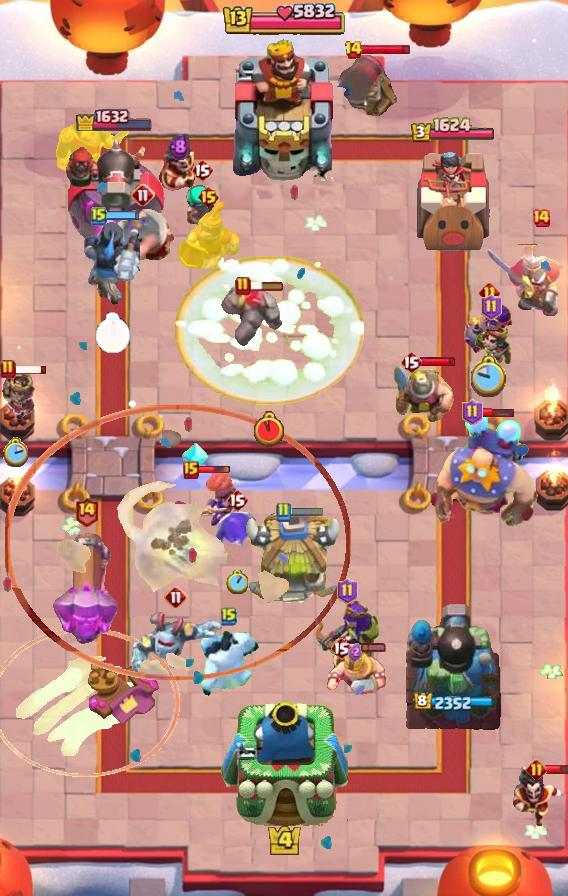bandit: (392, 363, 454, 427)
barbarian-hut: (311, 598, 385, 684)
bomber-evolution: (470, 324, 512, 378), (0, 371, 38, 423)
clock: (221, 0, 347, 40)
earthquake: (177, 202, 239, 278)
electro-spirit: (168, 133, 190, 161), (348, 643, 362, 661)
elixir: (471, 355, 509, 398), (95, 312, 131, 354), (254, 411, 284, 447), (2, 437, 28, 467), (226, 570, 248, 594)
elixir-golem-small: (128, 610, 224, 676)
emote: (360, 44, 411, 57), (349, 642, 386, 654), (249, 280, 285, 292), (420, 357, 457, 368), (12, 364, 49, 375), (105, 210, 140, 221), (481, 406, 516, 417), (288, 507, 323, 518), (197, 465, 231, 475), (544, 763, 567, 775)
firecracker: (55, 119, 131, 178)
furnace: (52, 529, 120, 649)
goblin-ball: (462, 302, 516, 358)
goblin-giant: (324, 647, 386, 695)
ice-wizard: (0, 627, 180, 777)
inferno-dragon: (83, 219, 143, 309)
king-tower: (228, 35, 340, 181), (220, 702, 348, 827)
little-prince: (428, 408, 540, 528)
lumberjack: (510, 767, 568, 831), (158, 147, 200, 195)
monk: (110, 209, 176, 275)
pad_2: (181, 441, 209, 473)
phoenix-big: (174, 256, 366, 405)
prince: (243, 512, 345, 608)
queen-tower: (410, 144, 496, 255)
rage: (199, 631, 259, 697)
royal-ghost: (5, 404, 351, 681)
royal-giant-evolution: (332, 51, 400, 121)
selected: (410, 116, 496, 143), (74, 105, 154, 130), (414, 691, 495, 713)
spear-goblin: (216, 509, 258, 549)
tesla-evolution: (169, 469, 241, 532)
text: (73, 497, 98, 528), (131, 183, 155, 207), (164, 585, 188, 609), (337, 578, 359, 604), (196, 185, 219, 209), (481, 294, 502, 320), (462, 399, 483, 425), (191, 158, 213, 182), (400, 350, 422, 374), (226, 488, 248, 512), (330, 636, 352, 660), (479, 281, 501, 303), (525, 759, 547, 781), (531, 208, 551, 228), (344, 40, 363, 60), (91, 206, 107, 226), (235, 276, 251, 296), (0, 359, 16, 379), (275, 502, 291, 522), (221, 606, 237, 626), (183, 461, 199, 479)
tower-bar: (60, 132, 167, 256), (403, 601, 503, 731)
valkyrie-evolution: (218, 282, 286, 352)
wall-breaker-evolution: (484, 226, 568, 318)
witch: (184, 185, 220, 231)
